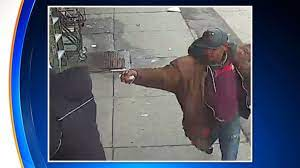gun: (109, 66, 134, 84)
